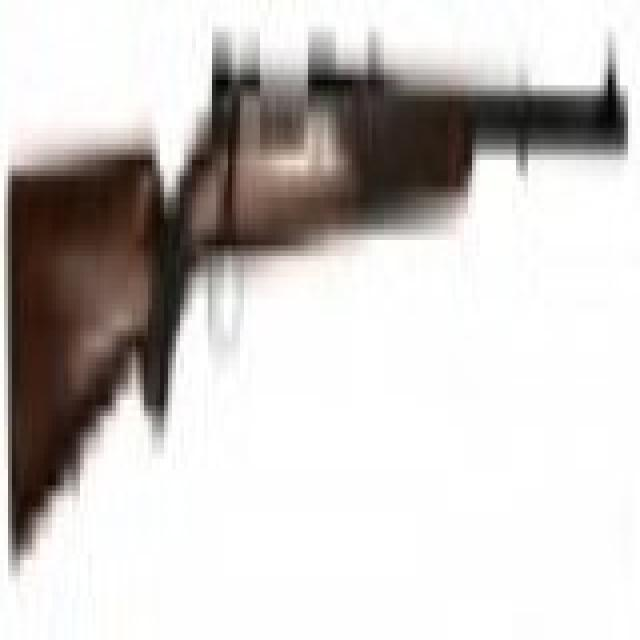Gun: (0, 7, 640, 528)
